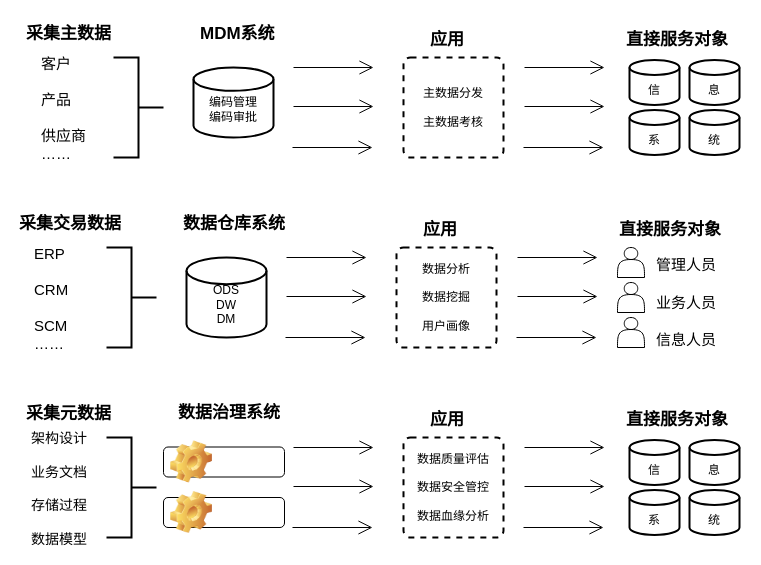
The diagram is 761 pixels wide and 565 high, and some of its shapes have lost their labels. Each missing label, with the box of its shape:
元数据: (162, 496, 284, 528)
数据标准: (162, 446, 284, 477)
